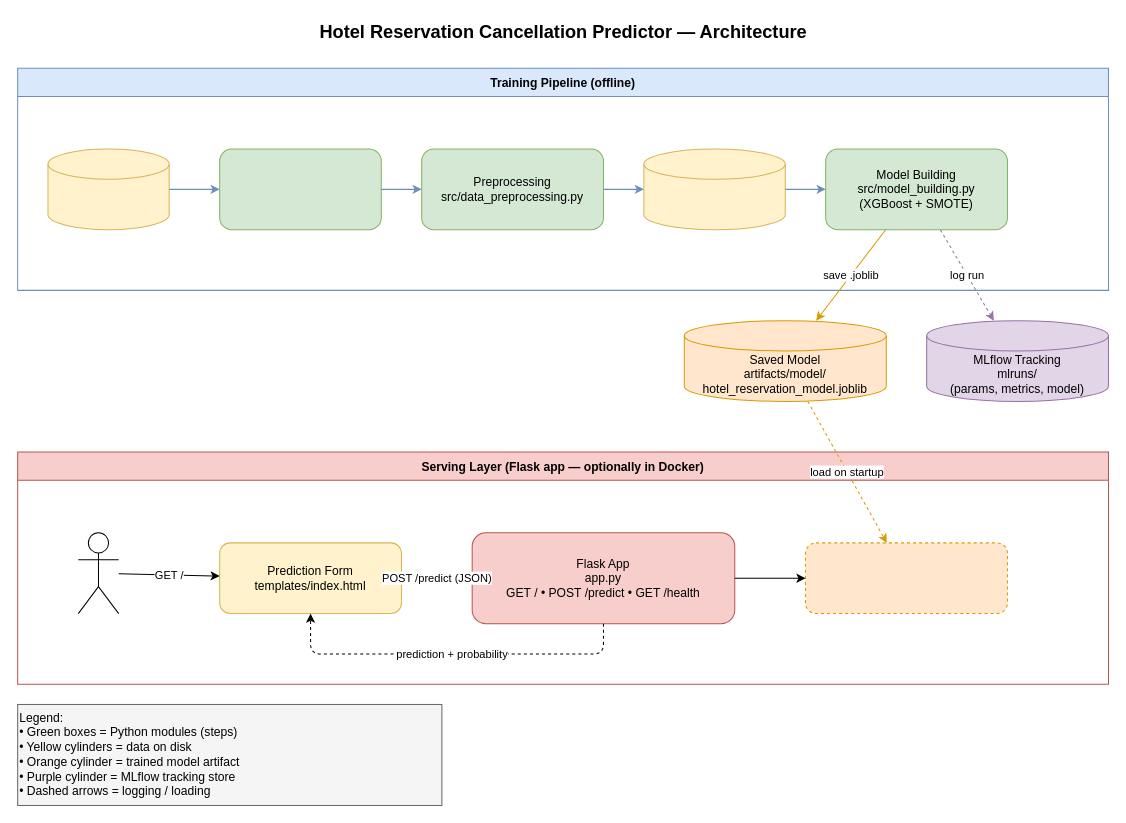
Image size: 1126x823. Some labels were removed from this diagram. The shapes that lost their labels are listed below. From the top down, each one's centre as x and y in pixels, then its label:
(x=108, y=189): Raw CSV artifacts/raw/
(x=300, y=189): Data Ingestion src/data_ingestion.py
(x=714, y=189): Processed CSV artifacts/processed/
(x=98, y=573): User (Browser)
(x=905, y=578): Loaded model (in memory at startup)
